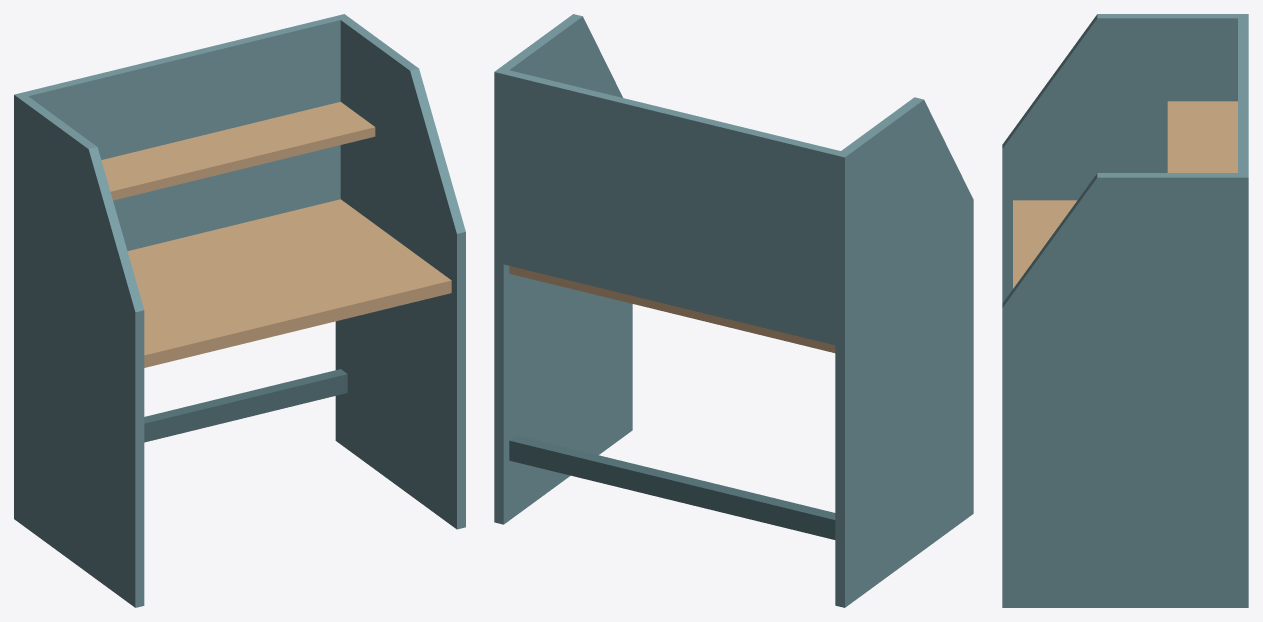
3 views of the same model, side by side, from view 1: azimuth 30°, elevation 25°; view 2: azimuth 150°, elevation 25°; view 3: azimuth 270°, elevation 25° (orthographic). The views are drawn at different scales.
Parts seen in each view (by area): view 1: WholeLeftGroundedPrivacyCheek, WholeRightGroundedPrivacyCheek, WholeRearPrivacyPanel, WholeHorizontalReadingDesk, HighShallowRearBookShelf, RecessedLowRearStretcher; view 2: WholeRearPrivacyPanel, WholeLeftGroundedPrivacyCheek, WholeRightGroundedPrivacyCheek, RecessedLowRearStretcher, WholeHorizontalReadingDesk; view 3: WholeRightGroundedPrivacyCheek, WholeLeftGroundedPrivacyCheek, HighShallowRearBookShelf, WholeHorizontalReadingDesk, WholeRearPrivacyPanel.
Part boxes in pixels (box(x1,y1,x2,y2)): WholeLeftGroundedPrivacyCheek: box(14, 92, 144, 607); WholeRightGroundedPrivacyCheek: box(335, 14, 465, 529); WholeRearPrivacyPanel: box(23, 16, 340, 250); WholeHorizontalReadingDesk: box(127, 199, 451, 367); HighShallowRearBookShelf: box(101, 102, 375, 200); RecessedLowRearStretcher: box(144, 369, 347, 442); WholeRearPrivacyPanel: box(503, 70, 840, 345); WholeLeftGroundedPrivacyCheek: box(835, 97, 973, 607); WholeRightGroundedPrivacyCheek: box(494, 14, 632, 524); RecessedLowRearStretcher: box(509, 435, 835, 539); WholeHorizontalReadingDesk: box(509, 266, 835, 352); WholeRightGroundedPrivacyCheek: box(1002, 173, 1248, 607); WholeLeftGroundedPrivacyCheek: box(1002, 14, 1248, 303); HighShallowRearBookShelf: box(1167, 101, 1237, 172); WholeHorizontalReadingDesk: box(1013, 200, 1077, 288); WholeRearPrivacyPanel: box(1238, 18, 1248, 172).
Size of the model in its own units: 1.1 by 1.35 by 0.7.
